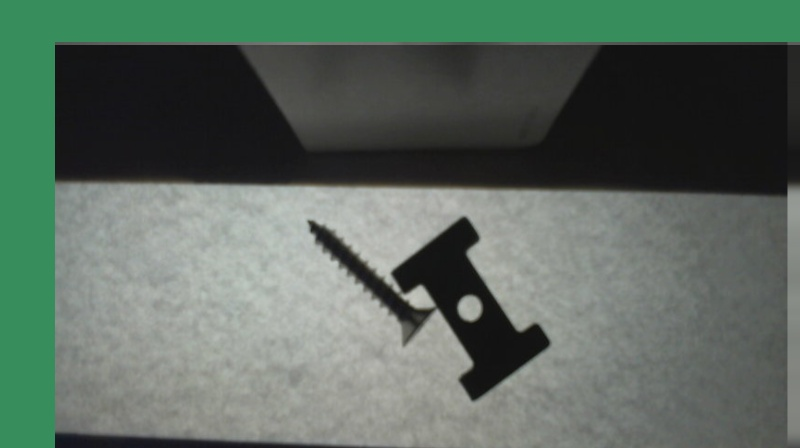O002: (394, 219, 550, 402)
S001: (301, 214, 437, 350)
